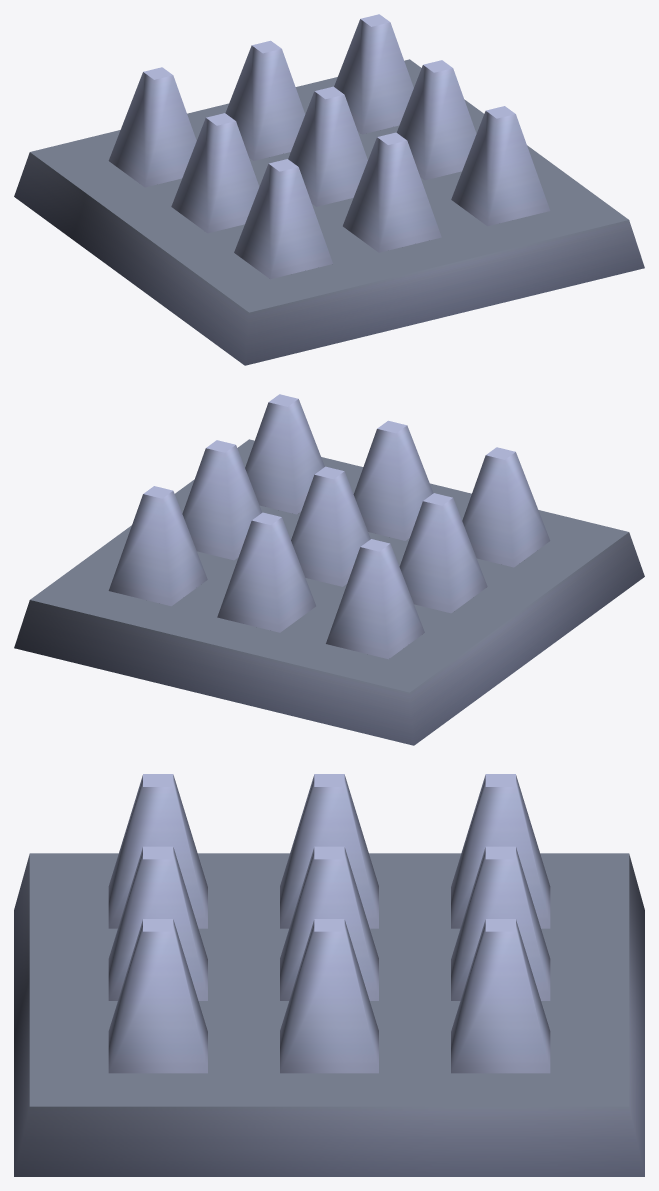
Rendered from kenney-platformer-trap-spikes-large.glb.
The picture shows the model from 3 angles, top to bottom: view 1: azimuth 30°, elevation 25°; view 2: azimuth 150°, elevation 25°; view 3: azimuth 270°, elevation 25°; orthographic projection. The views are drawn at different scales.
Visible parts, largest first — view 1: trap-spikes-large, spikes; view 2: trap-spikes-large, spikes; view 3: trap-spikes-large, spikes.
Part boxes in pixels (box(x1,y1,x2,y2)): trap-spikes-large: box(14, 59, 644, 365); spikes: box(108, 14, 550, 279); trap-spikes-large: box(14, 439, 644, 745); spikes: box(108, 394, 550, 659); trap-spikes-large: box(14, 853, 644, 1176); spikes: box(108, 774, 550, 1073).
Size of the model in its own units: 0.765 by 0.255 by 0.765.
Materials: 1 (1 with a texture image).
